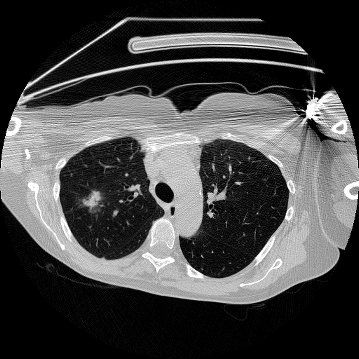nodule: (82, 191, 104, 213)
